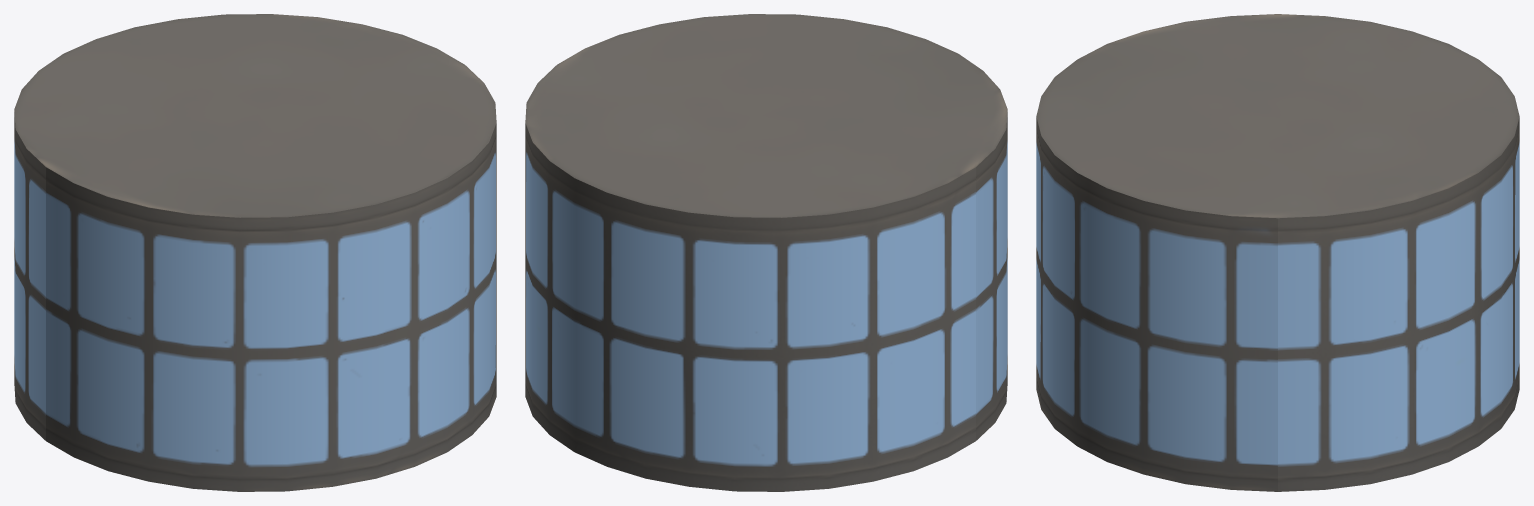
Rendered from ProjectRG_Environment_Sci-Fi_TowerGlassBlock.fbx.
The picture shows the model from 3 angles, left to right: view 1: azimuth 30°, elevation 25°; view 2: azimuth 150°, elevation 25°; view 3: azimuth 270°, elevation 25°; orthographic projection.
Parts seen in each view (by area): view 1: ProjectRG_Environment_Sci-Fi_TowerGlassBlock; view 2: ProjectRG_Environment_Sci-Fi_TowerGlassBlock; view 3: ProjectRG_Environment_Sci-Fi_TowerGlassBlock.
Part boxes in pixels (x1,y1,x2,y2): ProjectRG_Environment_Sci-Fi_TowerGlassBlock: (14,14,496,491); ProjectRG_Environment_Sci-Fi_TowerGlassBlock: (525,14,1007,491); ProjectRG_Environment_Sci-Fi_TowerGlassBlock: (1036,14,1519,491).
Size of the model in its own units: 1200 by 750 by 1200.
